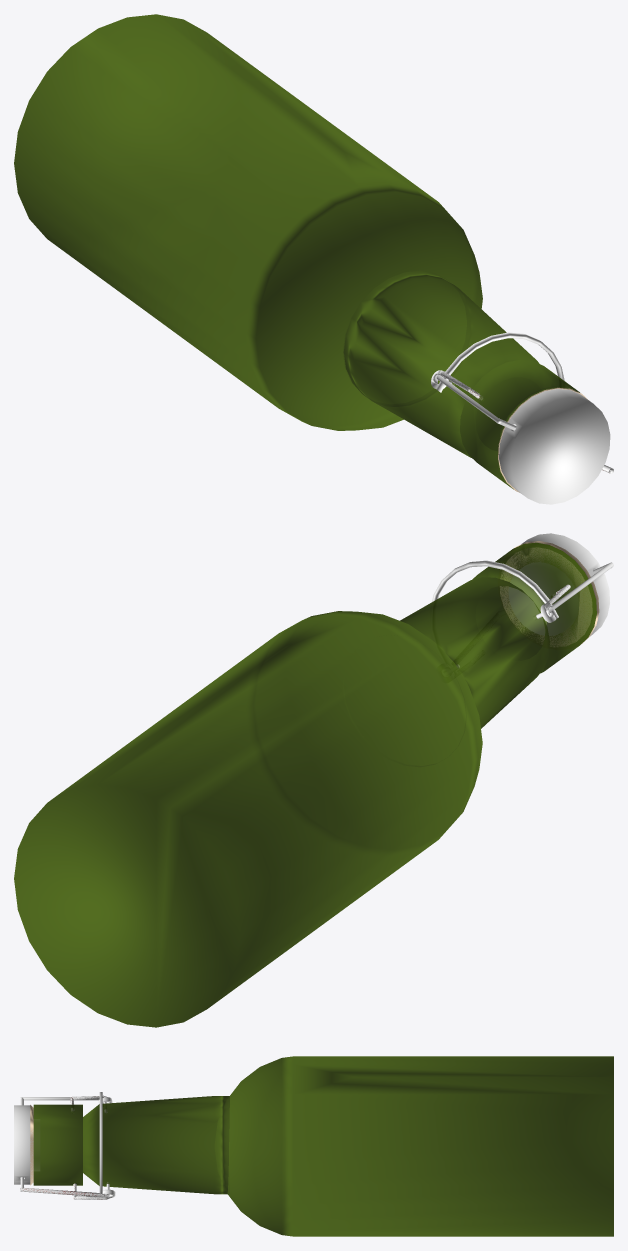
The model's file is model_scale.obj.
3 views of the same model, one above another, from view 1: azimuth 30°, elevation 25°; view 2: azimuth 150°, elevation 25°; view 3: azimuth 270°, elevation 25° (orthographic). The views are drawn at different scales.
Visible parts, largest first — view 1: mesh1_mesh1-geometry, mesh2_mesh2-geometry, mesh7_mesh7-geometry; view 2: mesh1_mesh1-geometry, mesh2_mesh2-geometry, mesh7_mesh7-geometry; view 3: mesh1_mesh1-geometry, mesh2_mesh2-geometry, mesh4_mesh4-geometry, mesh7_mesh7-geometry.
Part boxes in pixels (box(x1,y1,x2,y2)): mesh1_mesh1-geometry: box(14, 14, 482, 430); mesh2_mesh2-geometry: box(343, 270, 610, 504); mesh7_mesh7-geometry: box(436, 332, 564, 392); mesh1_mesh1-geometry: box(14, 611, 482, 1027); mesh2_mesh2-geometry: box(343, 533, 609, 766); mesh7_mesh7-geometry: box(432, 560, 558, 618); mesh1_mesh1-geometry: box(215, 1056, 613, 1236); mesh2_mesh2-geometry: box(14, 1096, 229, 1199); mesh4_mesh4-geometry: box(20, 1182, 109, 1197); mesh7_mesh7-geometry: box(99, 1092, 102, 1193).
Bounding box in the file's own units: 0.0446 × 0.0446 × 0.1479.
